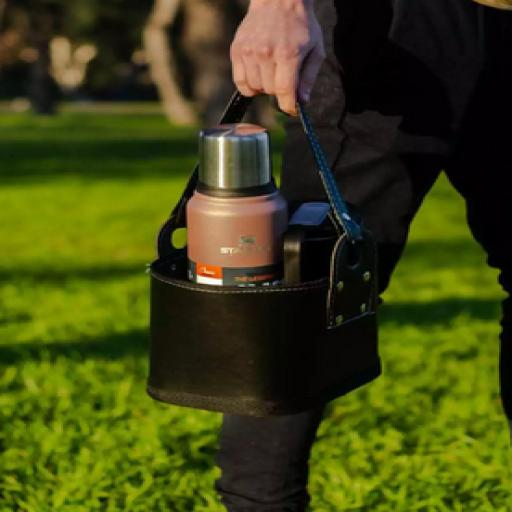termo: (182, 123, 303, 289)
